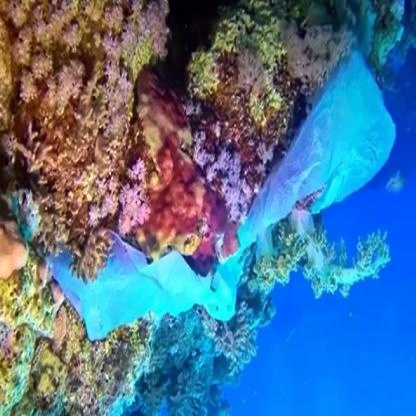plastic: (258, 51, 396, 298), (50, 218, 222, 339)
